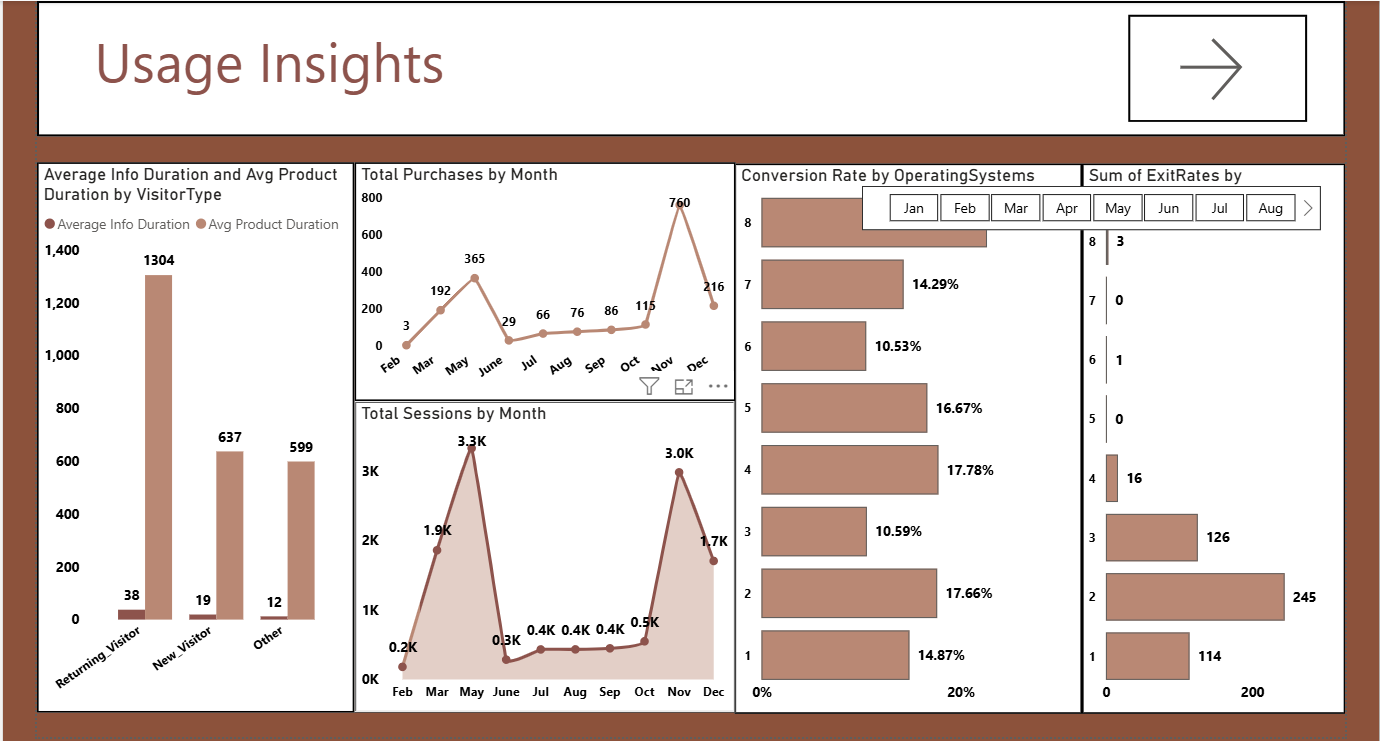

The page's visual inventory and layout, read from the dashboard file:
{"tool":"powerbi","page":{"name":"Usage Insights","canvas":[1280,720],"ordinal":3},"visuals":[{"type":"shape","box":[0,0,1280,132.5],"z":0},{"type":"shape","box":[1067.5,13.8,175,105],"z":1000},{"type":"textbox","box":[51.2,17.5,948.8,96.2],"z":2000},{"type":"actionButton","box":[1110,28.8,90,75],"z":3000},{"type":"clusteredBarChart","fields":{"Category":["Sheet1.OperatingSystems"],"Y":["Sheet1.Conversion Rate"]},"box":[682.5,158.8,340,538.8],"z":4000},{"type":"lineChart","fields":{"Category":["Sheet1.Month"],"Y":["Sheet1.Total Purchases"]},"box":[310,157.5,372.5,233.8],"z":5000},{"type":"areaChart","fields":{"Category":["Sheet1.Month"],"Y":["Sheet1.Total Sessions"]},"box":[310,391.2,372.5,305],"z":6000},{"type":"clusteredColumnChart","fields":{"Category":["Sheet1.VisitorType"],"Y":["Sheet1.Average Info Duration","Sheet1.Avg Product Duration"]},"box":[0,157.5,310,538.8],"z":7000},{"type":"barChart","fields":{"Y":["Sum(Sheet1.ExitRates)"],"Category":["Sheet1.OperatingSystems"]},"box":[1022.5,158.8,257.5,538.8],"z":8000},{"type":"slicer","fields":{"Values":["Calendar.MonthName"]},"box":[807.1,181.4,448.6,42.9],"z":9000}]}

Visuals, with their boxes in screenshot pixels (x1, y1, x2, y2):
shape: <box>40,0,1337,134</box>
shape: <box>1122,14,1299,120</box>
textbox: <box>91,18,1054,115</box>
actionButton: <box>1165,29,1256,105</box>
clusteredBarChart - Sheet1.OperatingSystems x Sheet1.Conversion Rate: <box>732,161,1076,707</box>
lineChart - Sheet1.Month x Sheet1.Total Purchases: <box>354,160,732,397</box>
areaChart - Sheet1.Month x Sheet1.Total Sessions: <box>354,397,732,706</box>
clusteredColumnChart - Sheet1.VisitorType x Sheet1.Average Info Duration: <box>40,160,354,706</box>
barChart - Sum(Sheet1.ExitRates) x Sheet1.OperatingSystems: <box>1076,161,1337,707</box>
slicer - Calendar.MonthName: <box>858,184,1313,227</box>
